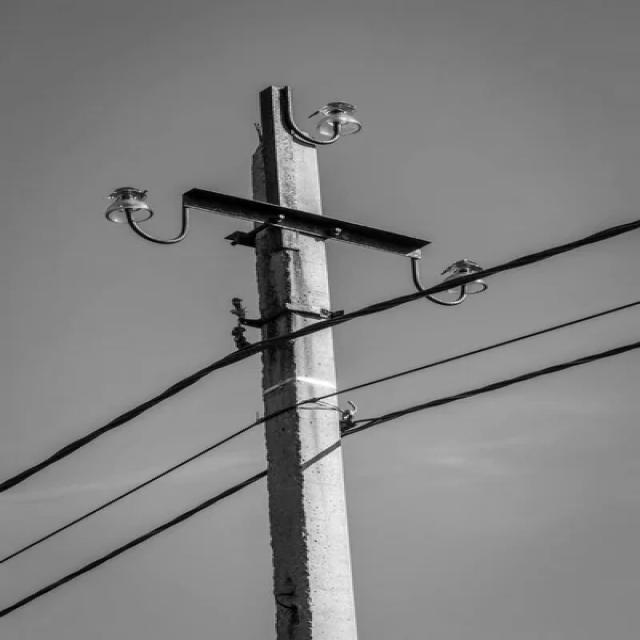Pole: (244, 85, 357, 640)
